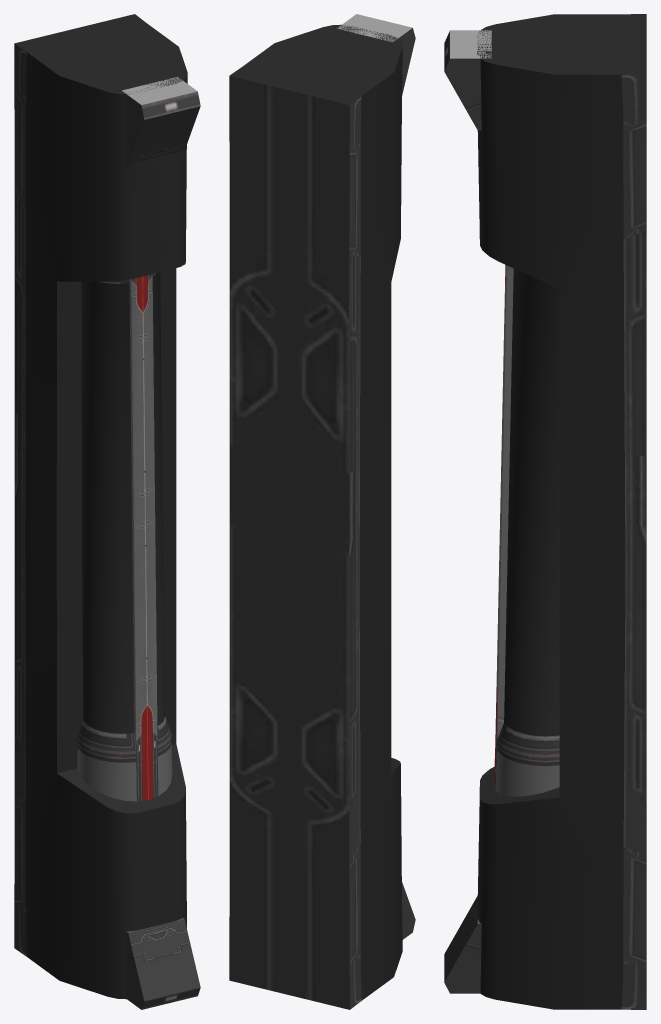
The model's file is Column_Large_Straight.glb.
3 views of the same model, side by side, from view 1: azimuth 30°, elevation 25°; view 2: azimuth 150°, elevation 25°; view 3: azimuth 270°, elevation 25° (orthographic). The views are drawn at different scales.
Visible parts, largest first — view 1: Column_Large_Straight; view 2: Column_Large_Straight; view 3: Column_Large_Straight.
Boxes of the visible parts, x1,y1,x2,y2 form: Column_Large_Straight: (14, 14, 200, 1009); Column_Large_Straight: (229, 14, 415, 1009); Column_Large_Straight: (444, 14, 646, 1009).
Bounding box in the file's own units: 1.4 × 10 × 1.96.
Materials: 4 (4 with a texture image).
